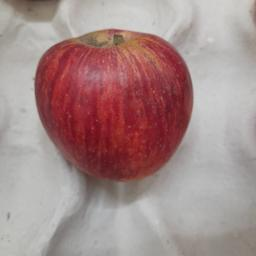Apple Ripe: (35, 30, 192, 180)
